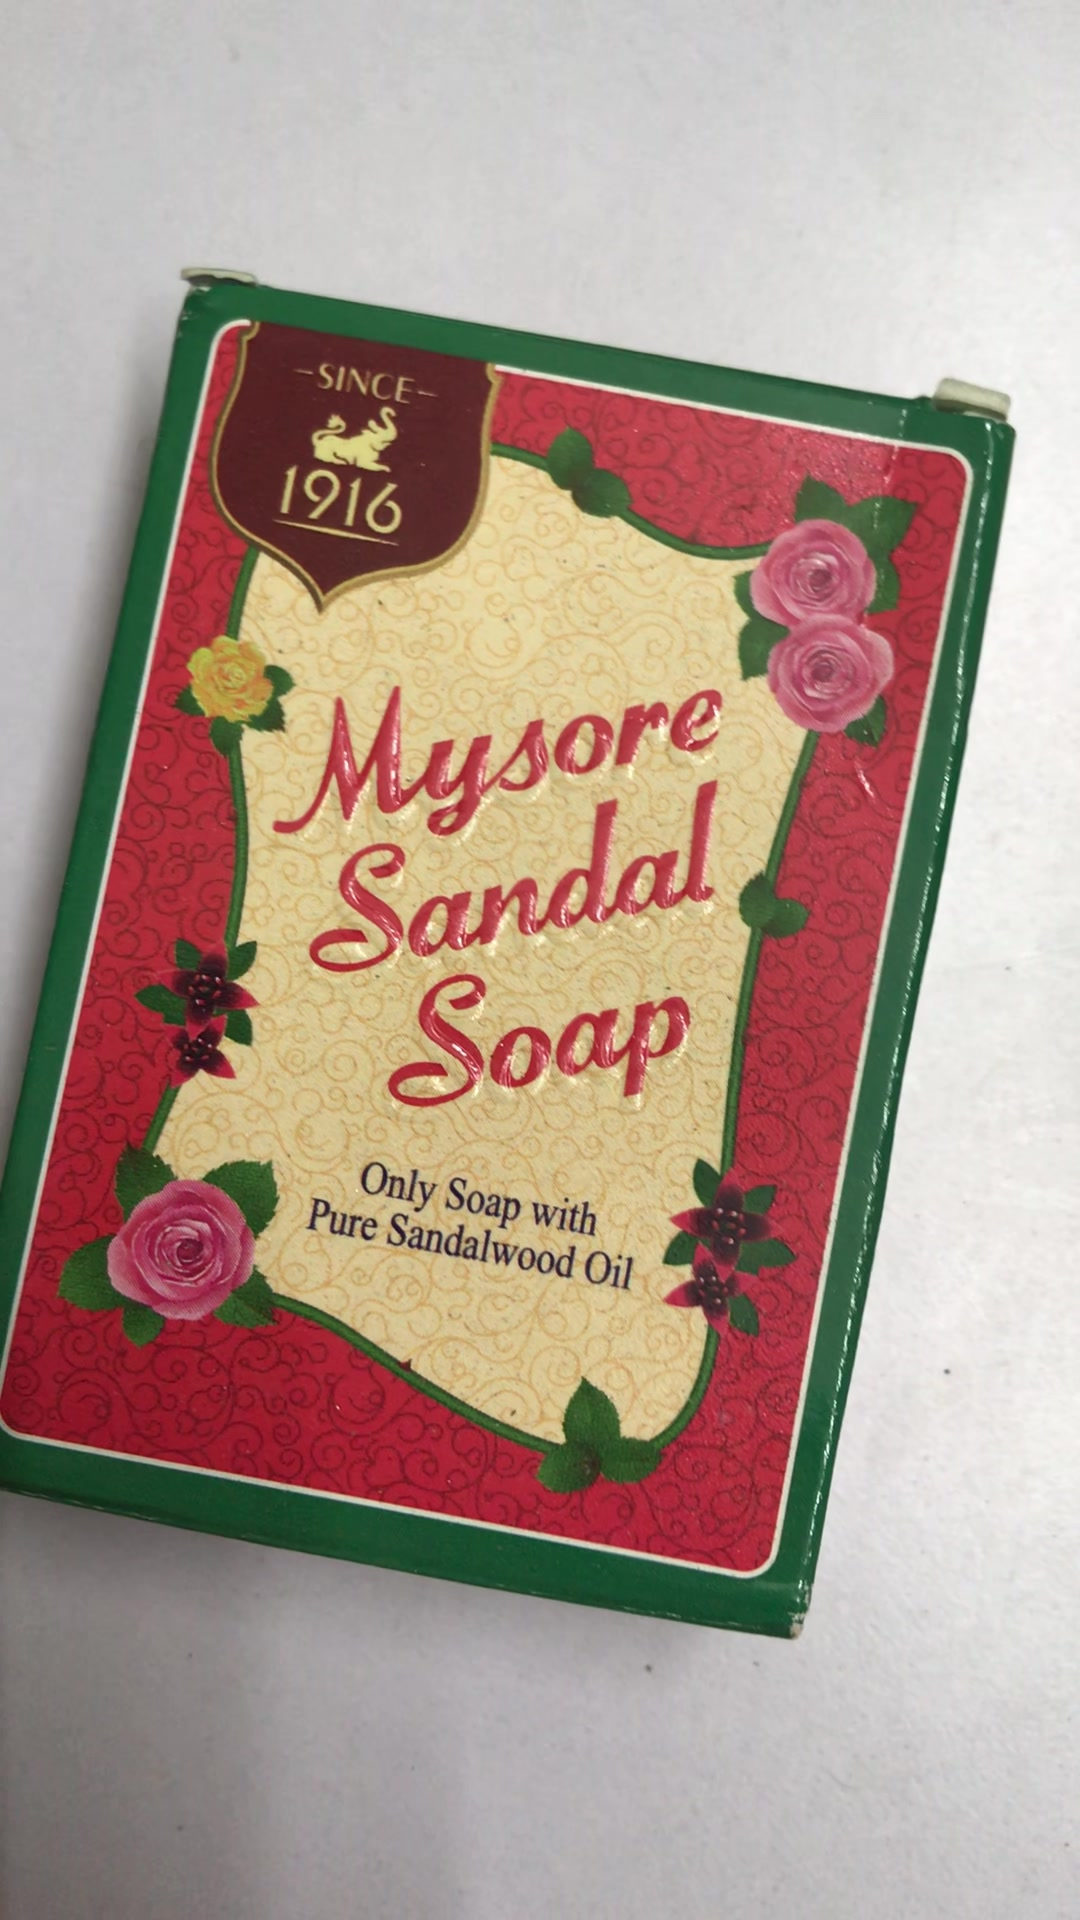mysore sandal soap: (3, 265, 1018, 1640)
